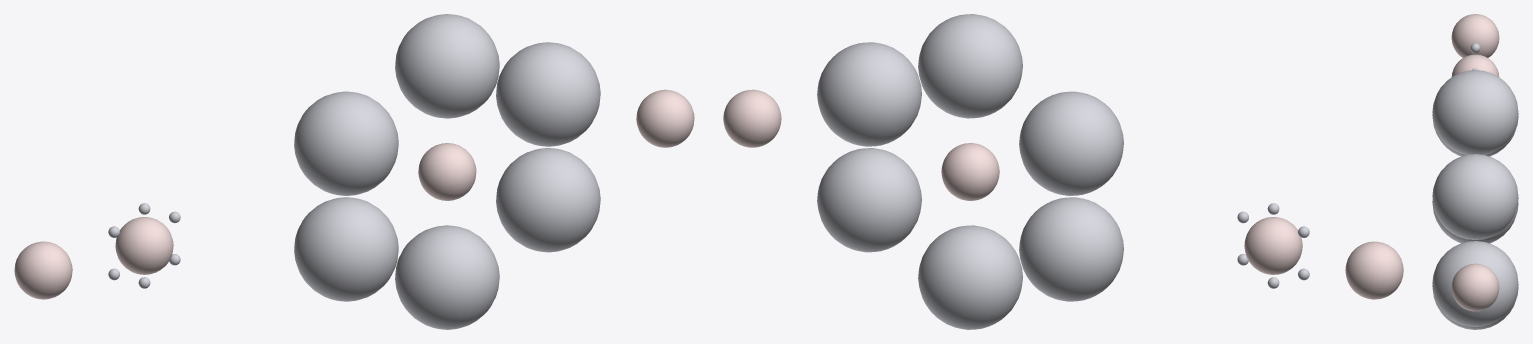
The model's file is Ebbinghaus Demo.glb.
3 renders of one model, left to right at view 1: azimuth 30°, elevation 25°; view 2: azimuth 150°, elevation 25°; view 3: azimuth 270°, elevation 25°, orthographic. The views are drawn at different scales.
Visible parts, largest first — view 1: Sphere__6_, Sphere__5_, Sphere__3_, Sphere__7_, Sphere__2_, Sphere__4_, Sphere__8_, Sphere__16_, Sphere, Sphere__1_; view 2: Sphere__7_, Sphere__5_, Sphere__4_, Sphere__6_, Sphere__3_, Sphere__2_, Sphere__8_, Sphere__16_, Sphere, Sphere__1_; view 3: Sphere__5_, Sphere__3_, Sphere__2_, Sphere__16_, Sphere__8_, Sphere__1_, Sphere__7_, Sphere__6_, Sphere__4_, Sphere__10_.
Part boxes in pixels (bbox=[...]): Sphere__6_: bbox=[395, 225, 499, 329]; Sphere__5_: bbox=[496, 42, 600, 146]; Sphere__3_: bbox=[395, 14, 499, 118]; Sphere__7_: bbox=[294, 197, 398, 301]; Sphere__2_: bbox=[496, 148, 600, 252]; Sphere__4_: bbox=[294, 91, 398, 195]; Sphere__8_: bbox=[14, 241, 72, 299]; Sphere__16_: bbox=[636, 89, 694, 147]; Sphere: bbox=[418, 143, 476, 200]; Sphere__1_: bbox=[115, 217, 173, 274]; Sphere__7_: bbox=[1019, 197, 1123, 301]; Sphere__5_: bbox=[817, 42, 921, 146]; Sphere__4_: bbox=[1019, 91, 1123, 195]; Sphere__6_: bbox=[918, 225, 1022, 329]; Sphere__3_: bbox=[918, 14, 1022, 118]; Sphere__2_: bbox=[817, 148, 921, 252]; Sphere__8_: bbox=[1345, 241, 1403, 299]; Sphere__16_: bbox=[723, 89, 781, 147]; Sphere: bbox=[941, 143, 999, 200]; Sphere__1_: bbox=[1244, 217, 1302, 274]; Sphere__5_: bbox=[1432, 154, 1518, 239]; Sphere__3_: bbox=[1432, 70, 1518, 154]; Sphere__2_: bbox=[1432, 241, 1518, 326]; Sphere__16_: bbox=[1451, 263, 1499, 311]; Sphere__8_: bbox=[1451, 14, 1499, 57]; Sphere__1_: bbox=[1451, 54, 1499, 76]; Sphere__7_: bbox=[1432, 200, 1518, 243]; Sphere__6_: bbox=[1432, 285, 1518, 329]; Sphere__4_: bbox=[1432, 114, 1518, 156]; Sphere__10_: bbox=[1470, 43, 1480, 52].
Bounding box in the file's own units: 13.32 × 5.8 × 1.8.
